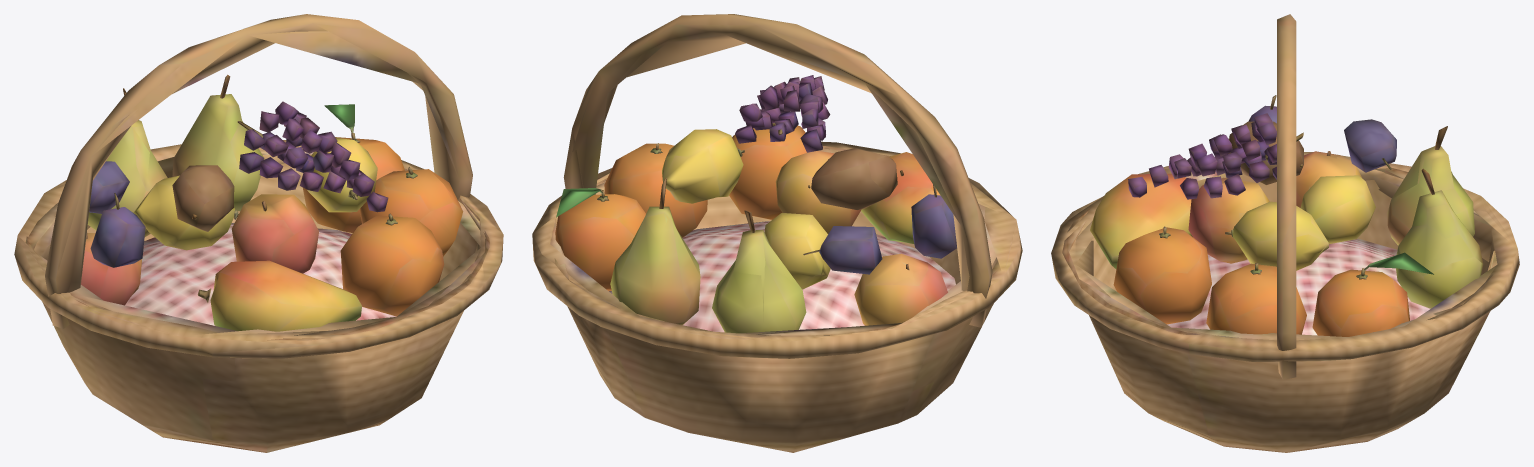
Rendered from g3d_fruit_basket.glb.
The picture shows the model from 3 angles, left to right: view 1: azimuth 30°, elevation 25°; view 2: azimuth 150°, elevation 25°; view 3: azimuth 270°, elevation 25°; orthographic projection. The views are drawn at different scales.
Visible parts, largest first — view 1: fruit-basket_body, fruit-basket_body_lo; view 2: fruit-basket_body, fruit-basket_body_lo; view 3: fruit-basket_body, fruit-basket_body_lo.
Part boxes in pixels (x1,y1,x2,y2): fruit-basket_body: (14, 14, 503, 452); fruit-basket_body_lo: (18, 31, 503, 377); fruit-basket_body: (532, 14, 1022, 452); fruit-basket_body_lo: (532, 24, 1016, 418); fruit-basket_body: (1051, 14, 1519, 452); fruit-basket_body_lo: (1060, 15, 1516, 439).
Bounding box in the file's own units: 0.3717 × 0.3087 × 0.3712.
1 material, 1 textured.
